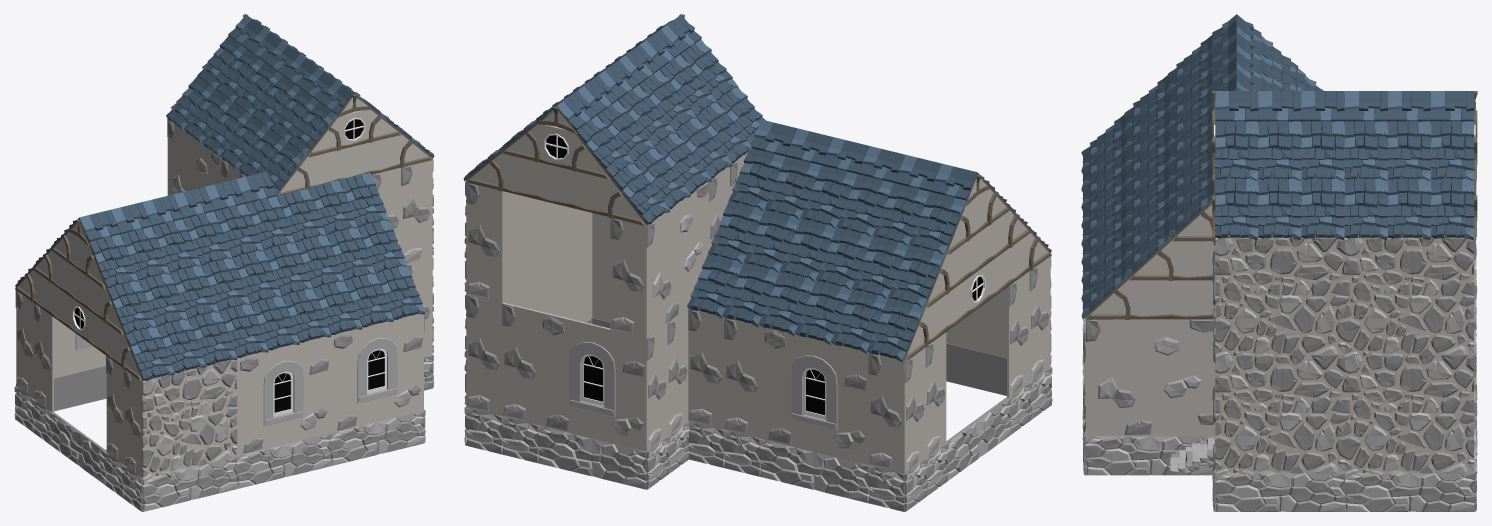
Rendered from HOUSE_1_PARTS.fbx.
The picture shows the model from 3 angles, left to right: view 1: azimuth 30°, elevation 25°; view 2: azimuth 150°, elevation 25°; view 3: azimuth 270°, elevation 25°; orthographic projection. The views are drawn at different scales.
Parts seen in each view (by area): view 1: WALL_02_7, WINDOW_07_7, WINDOW_07_6, FOUNDATION_01_4, FOUNDATION_01_3, FOUNDATION_01_2, WALL_03_17, WALL_05_3, FOUNDATION_01_5, WALL_03_4, WINDOW_07_8, WALL_03_2 (+77 smaller); view 2: WINDOW_07_9, WINDOW_07_8, WALL_05_3, WALL_02_11, WALL_03_14, WALL_03_16, FOUNDATION_01_7, WALL_03_15, FOUNDATION_01_6, WALL_03_7, WALL_03_8, WALL_03_6 (+85 smaller); view 3: WALL_02_8, WALL_02_9, WALL_02_11, WALL_02_10, WALL_05_2, FOUNDATION_01_9, FOUNDATION_01_8, FOUNDATION_01_10, ROOF_base_69, ROOF_base_66, ROOF_base_68, ROOF_base_67 (+56 smaller).
Boxes of the visible parts, left/top/right/bottom form: WALL_02_7: left=141, top=359, right=237, bottom=479; WINDOW_07_7: left=236, top=336, right=330, bottom=456; WINDOW_07_6: left=330, top=314, right=423, bottom=433; FOUNDATION_01_4: left=142, top=456, right=237, bottom=511; FOUNDATION_01_3: left=236, top=433, right=331, bottom=488; FOUNDATION_01_2: left=330, top=410, right=424, bottom=465; WALL_03_17: left=401, top=160, right=432, bottom=263; WALL_05_3: left=167, top=119, right=221, bottom=195; FOUNDATION_01_5: left=50, top=412, right=106, bottom=484; WALL_03_4: left=33, top=303, right=53, bottom=412; WINDOW_07_8: left=54, top=317, right=105, bottom=378; WALL_03_2: left=124, top=369, right=144, bottom=478; WINDOW_07_9: left=538, top=311, right=646, bottom=451; WINDOW_07_8: left=760, top=326, right=868, bottom=465; WALL_05_3: left=644, top=182, right=709, bottom=338; WALL_02_11: left=531, top=211, right=592, bottom=322; WALL_03_14: left=466, top=181, right=503, bottom=303; WALL_03_16: left=502, top=302, right=539, bottom=425; FOUNDATION_01_7: left=537, top=425, right=647, bottom=489; WALL_03_15: left=466, top=294, right=502, bottom=416; FOUNDATION_01_6: left=759, top=439, right=868, bottom=502; WALL_03_7: left=724, top=317, right=760, bottom=438; WALL_03_8: left=688, top=308, right=724, bottom=429; WALL_03_6: left=868, top=352, right=905, bottom=473; WALL_02_8: left=1215, top=237, right=1344, bottom=355; WALL_02_9: left=1345, top=237, right=1474, bottom=355; WALL_02_11: left=1215, top=355, right=1344, bottom=473; WALL_02_10: left=1345, top=355, right=1474, bottom=473; WALL_05_2: left=1085, top=318, right=1215, bottom=436; FOUNDATION_01_9: left=1215, top=472, right=1344, bottom=511; FOUNDATION_01_8: left=1345, top=472, right=1474, bottom=511; FOUNDATION_01_10: left=1085, top=436, right=1215, bottom=475; ROOF_base_69: left=1430, top=177, right=1474, bottom=239; ROOF_base_66: left=1258, top=177, right=1301, bottom=239; ROOF_base_68: left=1387, top=177, right=1431, bottom=239; ROOF_base_67: left=1301, top=177, right=1344, bottom=239.
Bounding box in the file's own units: 1118 × 959 × 918.
